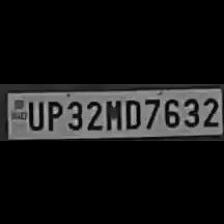2: (84, 96, 102, 130), (200, 93, 218, 126)
3: (64, 96, 82, 130), (181, 93, 199, 126)
6: (160, 94, 180, 128)
7: (141, 95, 159, 129)
D: (122, 95, 142, 129)
M: (104, 96, 122, 130)
P: (44, 96, 61, 130)
U: (25, 96, 42, 130)
